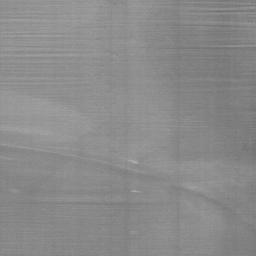Waist folding: (0, 124, 237, 195), (89, 0, 256, 54), (0, 18, 135, 81), (40, 200, 153, 206), (152, 249, 207, 256), (190, 76, 239, 82), (150, 112, 191, 117), (0, 188, 19, 194)
